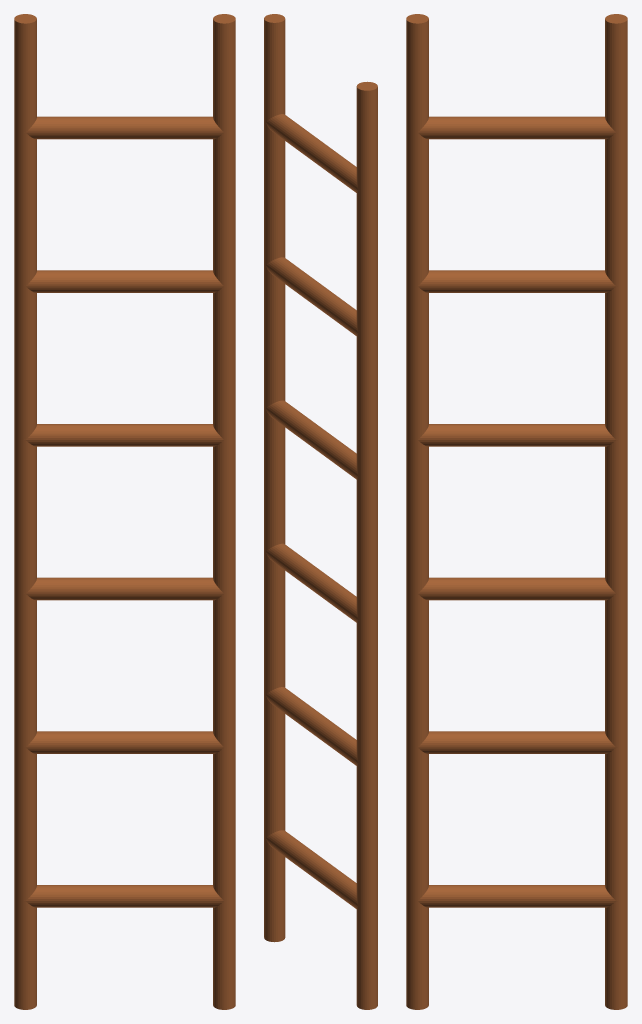
The model's file is Ladder.fbx.
The picture shows the model from 3 angles, left to right: view 1: azimuth 90°, elevation 25°; view 2: azimuth 210°, elevation 25°; view 3: azimuth 270°, elevation 25°; orthographic projection. The views are drawn at different scales.
Visible parts, largest first — view 1: Rung.005; view 2: Rung.005; view 3: Rung.005.
Boxes of the visible parts, x1=… form: Rung.005: x1=14, y1=14, x2=235, y2=1009; Rung.005: x1=264, y1=14, x2=377, y2=1009; Rung.005: x1=406, y1=14, x2=627, y2=1009.
Bounding box in the file's own units: 23.45 × 1127 × 229.
